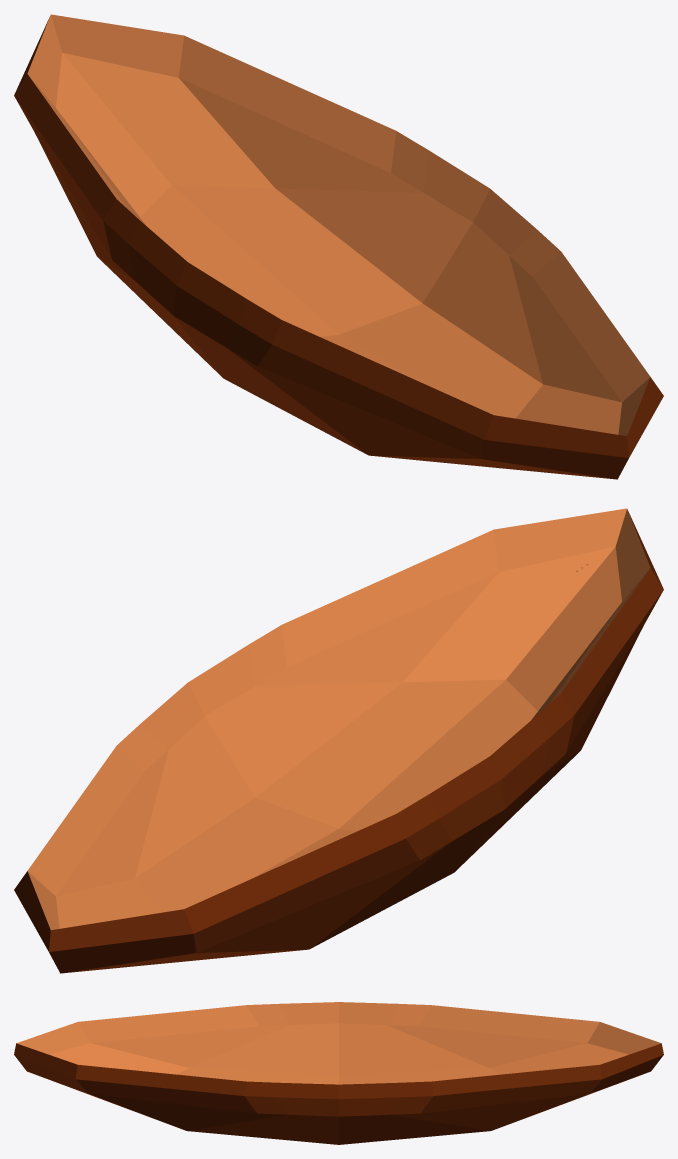
Rendered from canoe.obj.
The picture shows the model from 3 angles, top to bottom: view 1: azimuth 30°, elevation 25°; view 2: azimuth 150°, elevation 25°; view 3: azimuth 270°, elevation 25°; orthographic projection. The views are drawn at different scales.
Parts seen in each view (by area): view 1: Plane; view 2: Plane; view 3: Plane.
Part boxes in pixels (x1,y1,x2,y2): Plane: (14, 14, 663, 479); Plane: (14, 508, 663, 973); Plane: (14, 1002, 663, 1144).
Size of the model in its own units: 2.69 by 1.06 by 8.18.
Materials: 1 (1 with a texture image).
